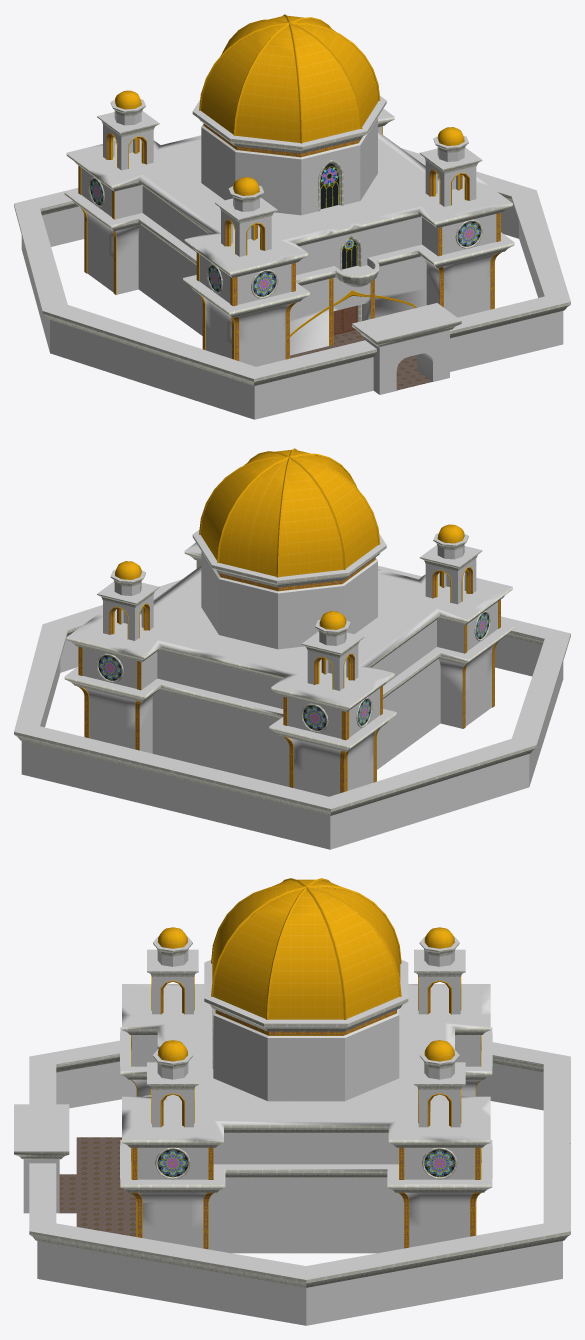
Rendered from Templo.fbx.
The picture shows the model from 3 angles, top to bottom: view 1: azimuth 30°, elevation 25°; view 2: azimuth 150°, elevation 25°; view 3: azimuth 270°, elevation 25°; orthographic projection. The views are drawn at different scales.
Visible parts, largest first — view 1: Templo_LOD0; view 2: Templo_LOD0; view 3: Templo_LOD0.
Part boxes in pixels (bbox=[...]): Templo_LOD0: bbox=[14, 14, 570, 419]; Templo_LOD0: bbox=[14, 448, 570, 849]; Templo_LOD0: bbox=[14, 878, 570, 1325].
Size of what is drawn, in the model's own units: 5312 by 2799 by 4593.
